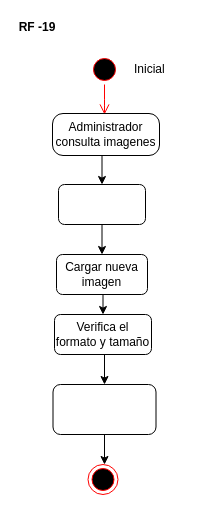
The diagram is 199 pixels wide and 512 high, and some of its shapes have lost their labels. Each missing label, with the box of its shape:
Mensaje registro exitoso: (52, 384, 156, 434)
Se muestran imagenes cargadas: (58, 184, 146, 224)
